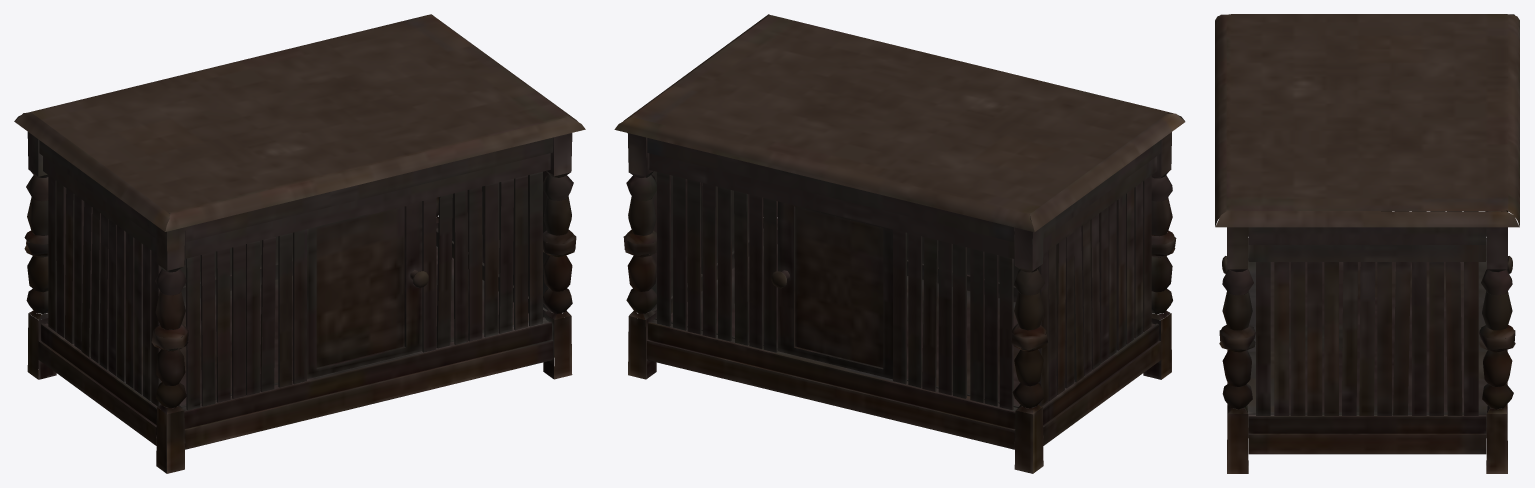
The model's file is cafe_table_low.glb.
3 views of the same model, side by side, from view 1: azimuth 30°, elevation 25°; view 2: azimuth 150°, elevation 25°; view 3: azimuth 270°, elevation 25° (orthographic).
Parts seen in each view (by area): view 1: gallinera_table, gallinera_table_door_a; view 2: gallinera_table, gallinera_table_door_b; view 3: gallinera_table.
Boxes of the visible parts, x1,y1,x2,y2 form: gallinera_table: (14,14,585,473); gallinera_table_door_a: (307,201,428,379); gallinera_table: (614,14,1185,473); gallinera_table_door_b: (771,201,892,379); gallinera_table: (1215,14,1519,473).
Bounding box in the file's own units: 0.8278 × 0.4875 × 0.5177.
1 material, 1 textured.
